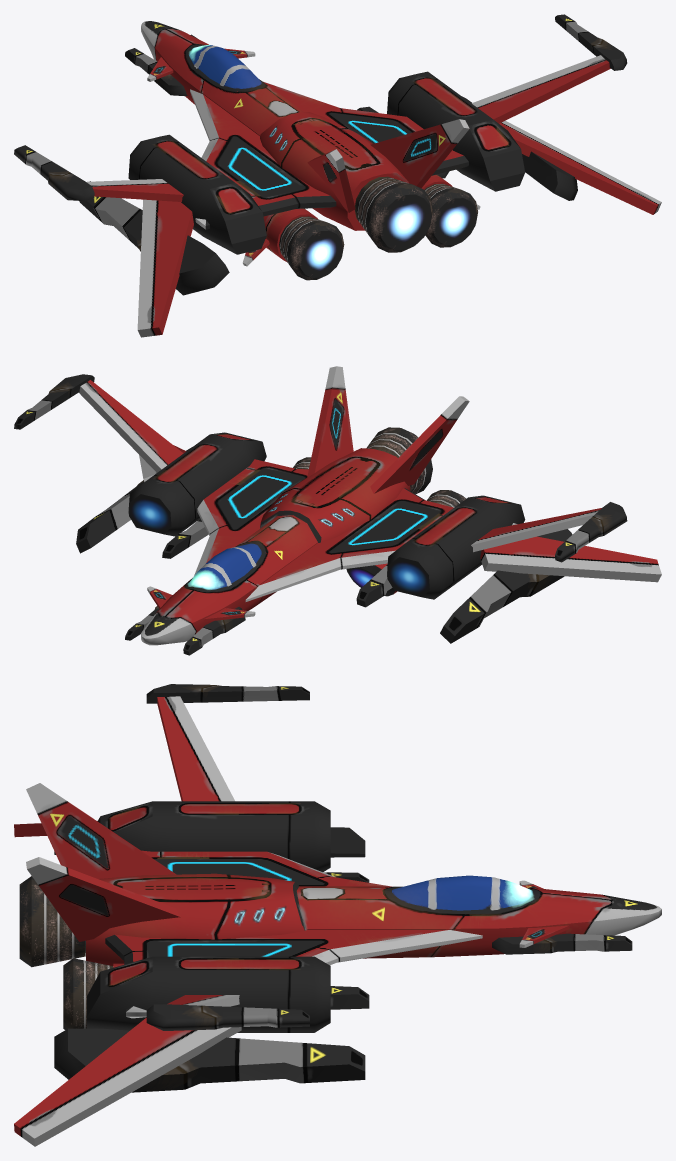
3 views of the same model, one above another, from view 1: azimuth 30°, elevation 25°; view 2: azimuth 150°, elevation 25°; view 3: azimuth 270°, elevation 25° (orthographic). The views are drawn at different scales.
Parts seen in each view (by area): view 1: Geode; view 2: Geode; view 3: Geode.
Part boxes in pixels (x1,y1,x2,y2): Geode: [14, 14, 661, 337]; Geode: [14, 366, 661, 655]; Geode: [14, 684, 661, 1146].
Bounding box in the file's own units: 1.6 × 0.3809 × 1.3.
